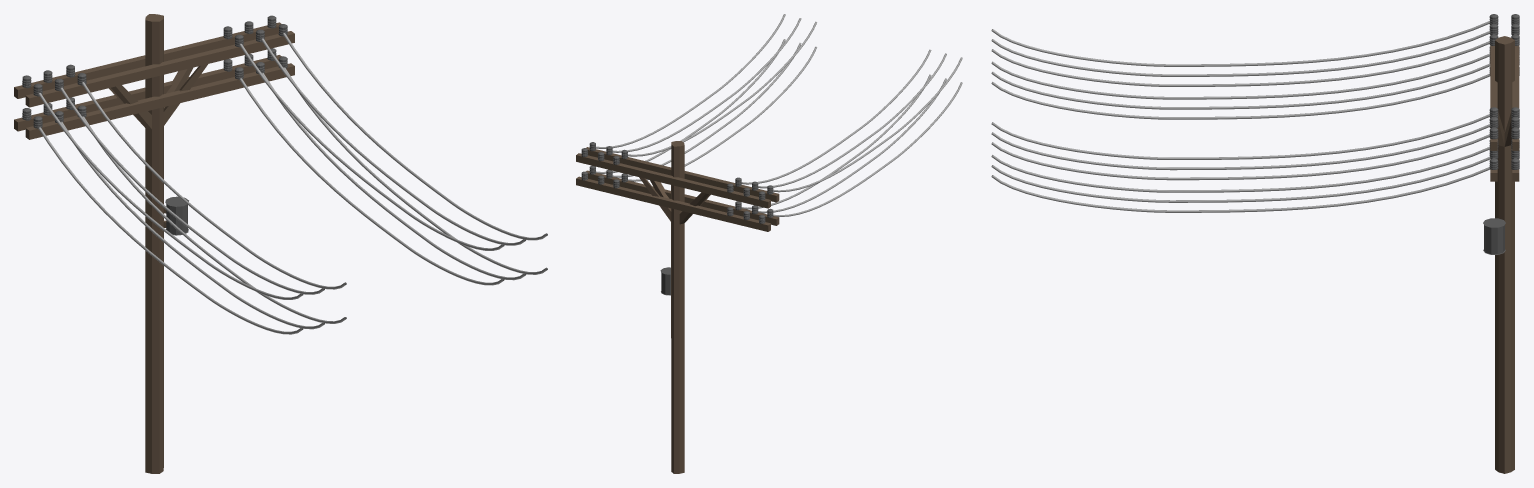
Rendered from PhoneLinePole.fbx.
3 views of the same model, side by side, from view 1: azimuth 30°, elevation 25°; view 2: azimuth 150°, elevation 25°; view 3: azimuth 270°, elevation 25° (orthographic). The views are drawn at different scales.
Visible parts, largest first — view 1: Post, BézierCurve, BézierCurve.003, Circle.010, Circle.025; view 2: Post, BézierCurve, BézierCurve.003, Circle.010; view 3: BézierCurve, BézierCurve.003, Post, Circle.010, Circle.025.
Boxes of the visible parts, x1,y1,x2,y2 form: Post: (14,14,294,473); BézierCurve: (38,82,346,334); BézierCurve.003: (239,33,547,285); Circle.010: (22,15,287,128); Circle.025: (165,196,188,235); Post: (576,141,779,473); BézierCurve: (741,49,962,216); BézierCurve.003: (596,14,816,181); Circle.010: (581,142,773,223); BézierCurve: (991,21,1490,119); BézierCurve.003: (991,114,1490,212); Post: (1490,35,1519,473); Circle.010: (1489,14,1519,169); Circle.025: (1483,218,1505,254).
Size of the model in its own units: 2369 by 3855 by 4301.
